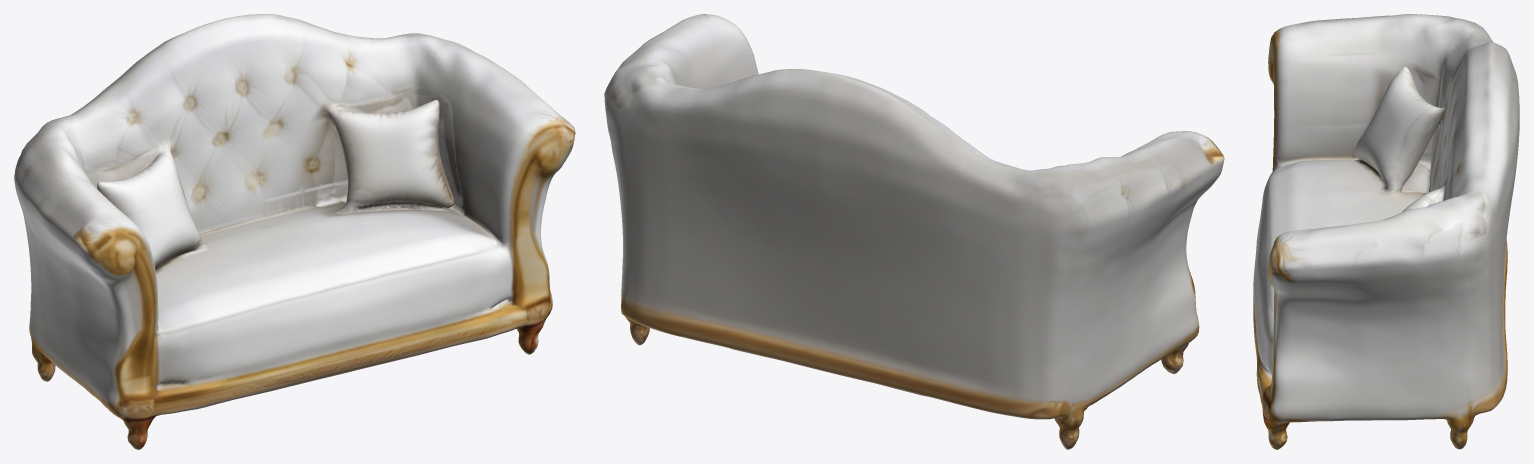
3 renders of one model, left to right at view 1: azimuth 30°, elevation 25°; view 2: azimuth 150°, elevation 25°; view 3: azimuth 270°, elevation 25°, orthographic. The views are drawn at different scales.
Bounding box in the file's own units: 2 × 1.17 × 0.9544.
Materials: 1 (1 with a texture image).
